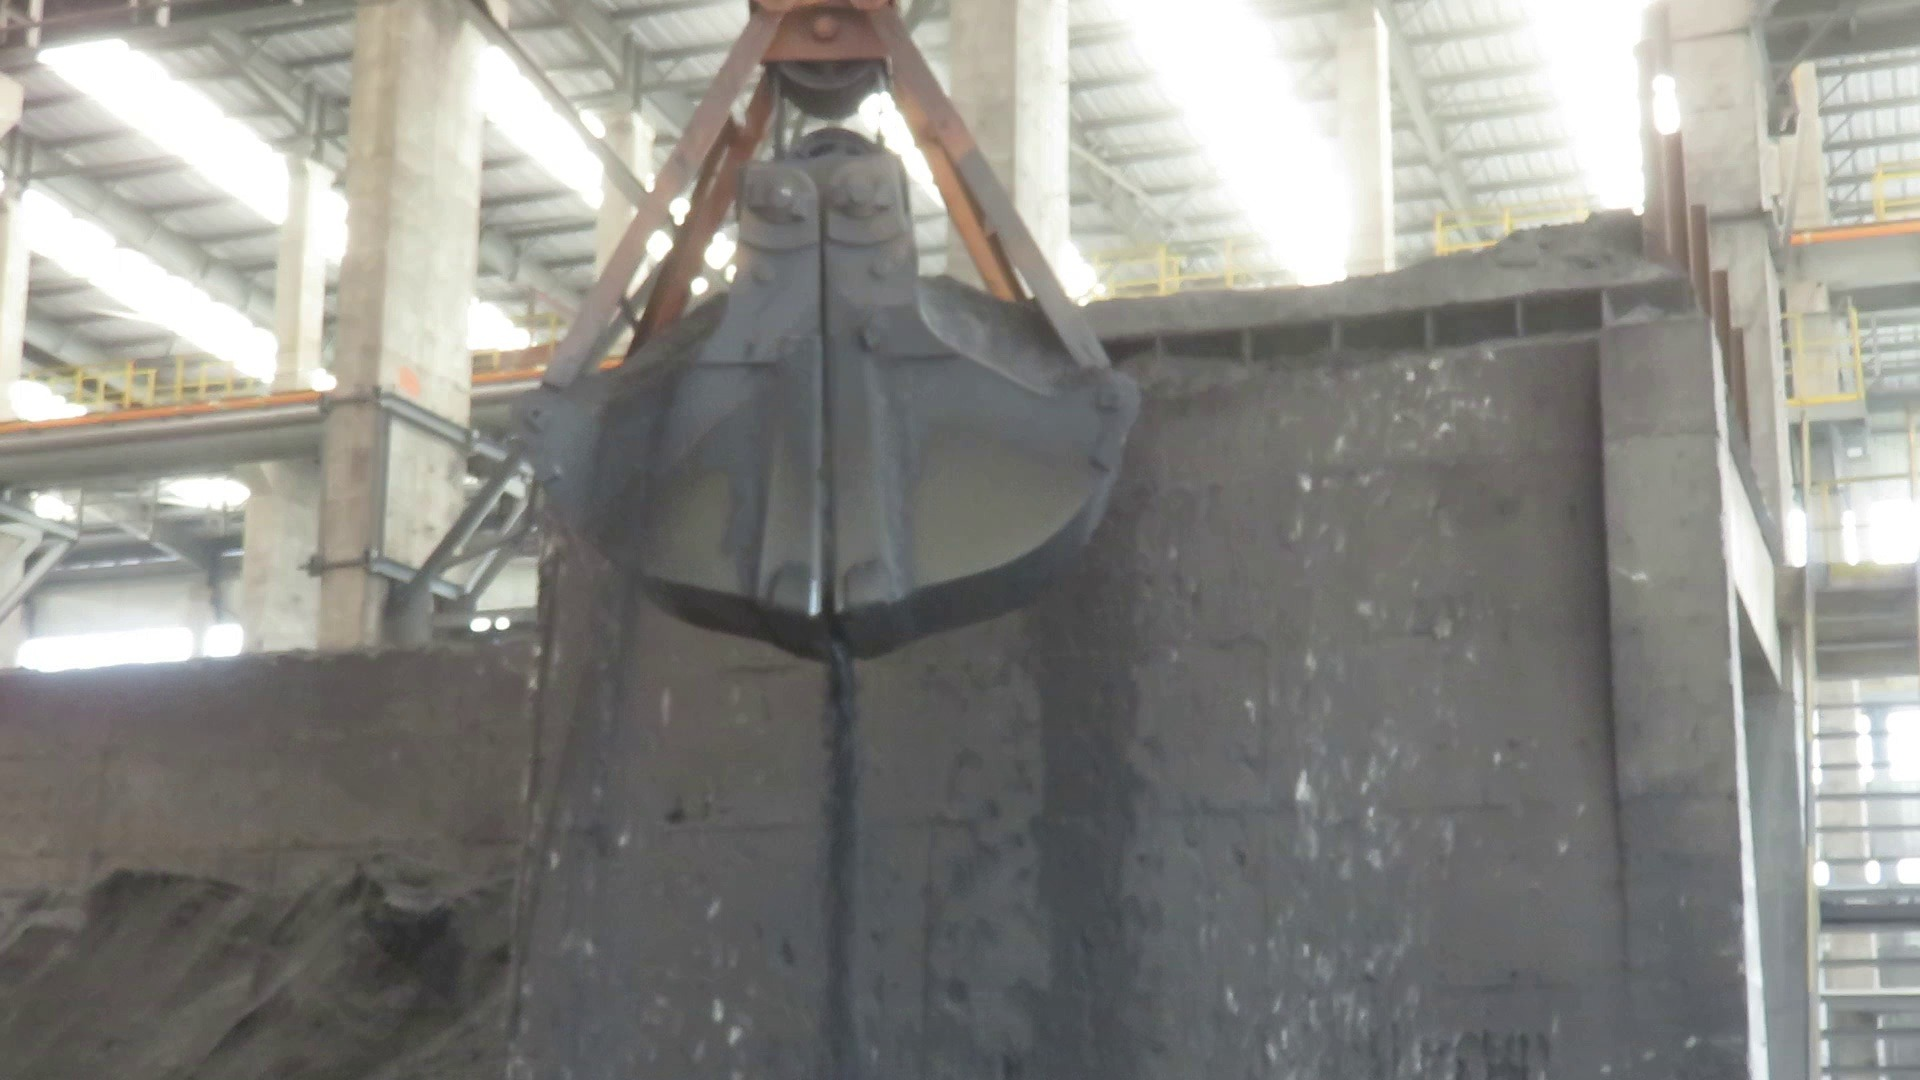grab: (526, 0, 1151, 665)
